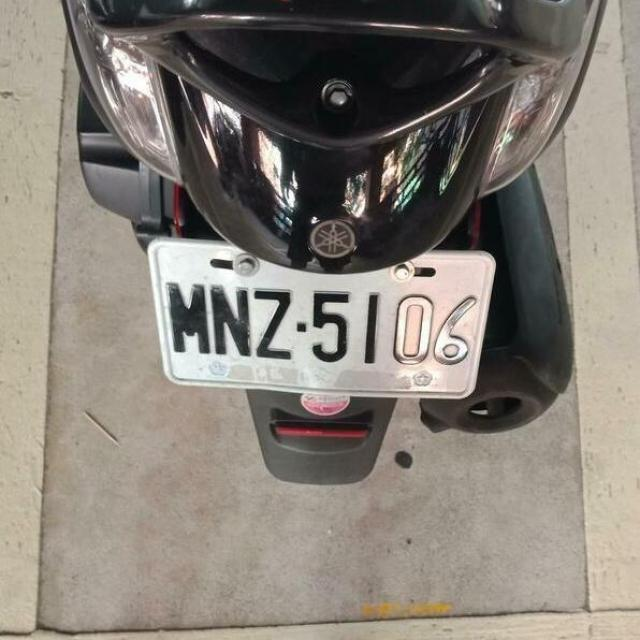W: (137, 234, 500, 410)
